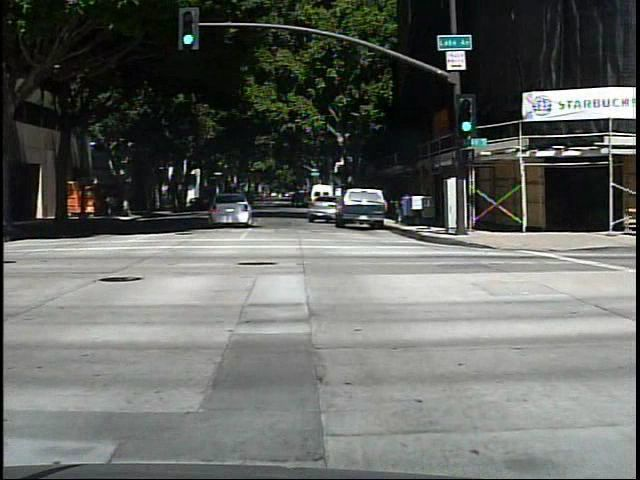person: (100, 185, 117, 220)
